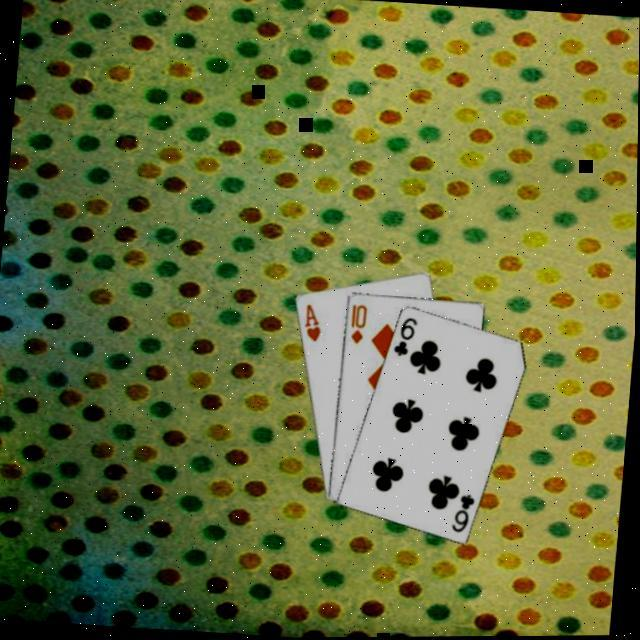10D: (344, 303, 368, 348)
6C: (389, 314, 419, 362), (447, 492, 477, 538)
AH: (298, 302, 324, 346)
